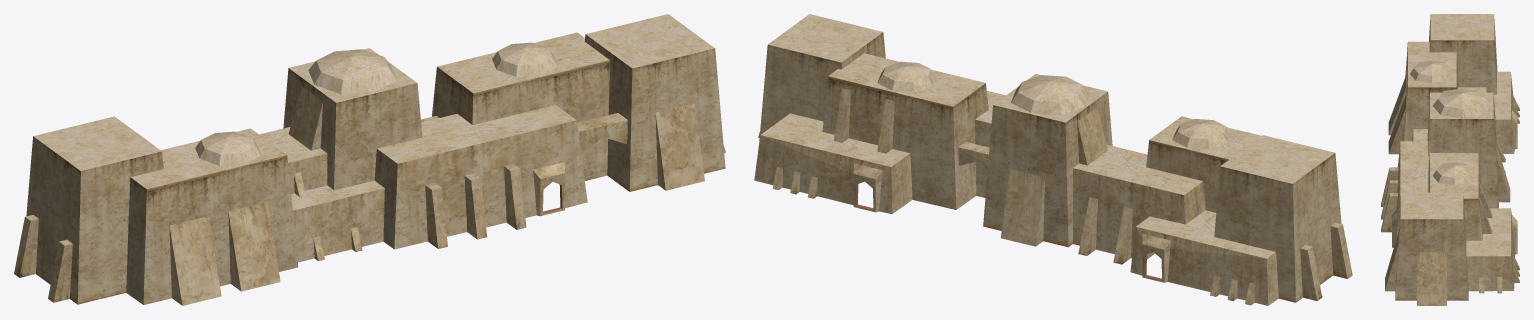
File: thm_tato_block_bldg_64x16_s02_r0_exterior_mesh_r0_l2.fbx
3 renders of one model, left to right at view 1: azimuth 30°, elevation 25°; view 2: azimuth 150°, elevation 25°; view 3: azimuth 270°, elevation 25°, orthographic. The views are drawn at different scales.
Visible parts, largest first — view 1: mesh_node; view 2: mesh_node; view 3: mesh_node.
Boxes of the visible parts, left/top/right/bottom form: mesh_node: left=14, top=14, right=725, bottom=305; mesh_node: left=754, top=14, right=1352, bottom=305; mesh_node: left=1381, top=14, right=1519, bottom=305.
Bounding box in the file's own units: 67.12 × 15.05 × 18.41.
